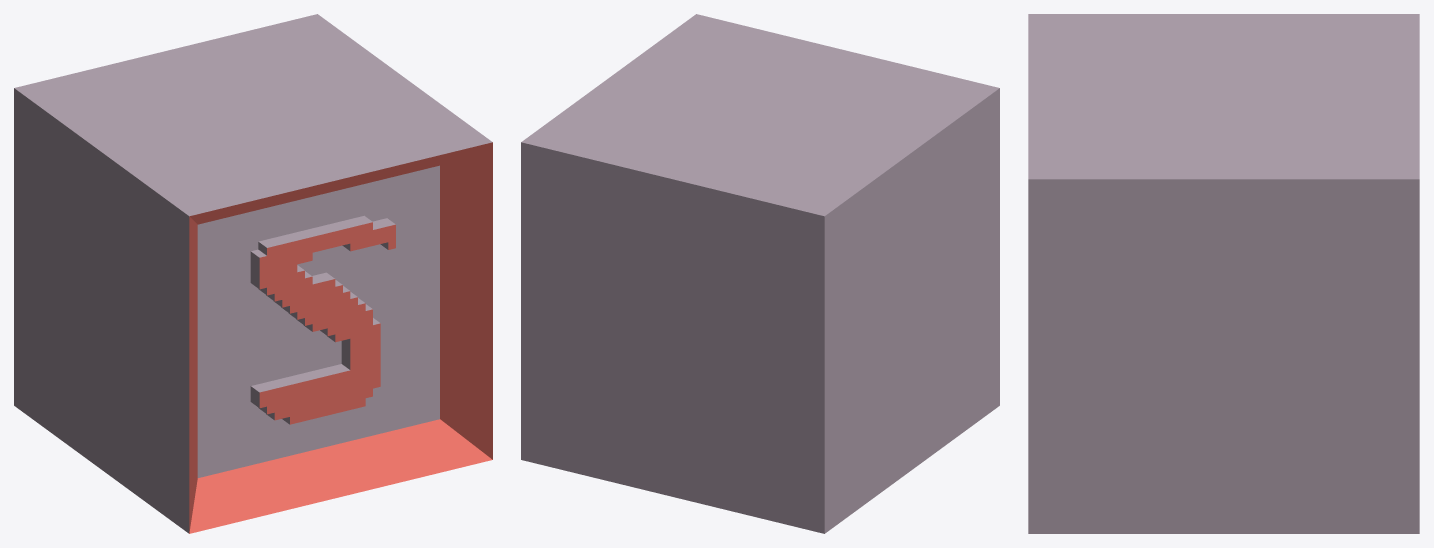
File: BlockS.fbx
The picture shows the model from 3 angles, left to right: view 1: azimuth 30°, elevation 25°; view 2: azimuth 150°, elevation 25°; view 3: azimuth 270°, elevation 25°; orthographic projection. The views are drawn at different scales.
Parts seen in each view (by area): view 1: Cube; view 2: Cube; view 3: Cube.
Part boxes in pixels (x1,y1,x2,y2): Cube: [14, 14, 492, 533]; Cube: [521, 14, 999, 533]; Cube: [1028, 14, 1419, 533].
Size of the model in its own units: 2000 by 2000 by 2000.
